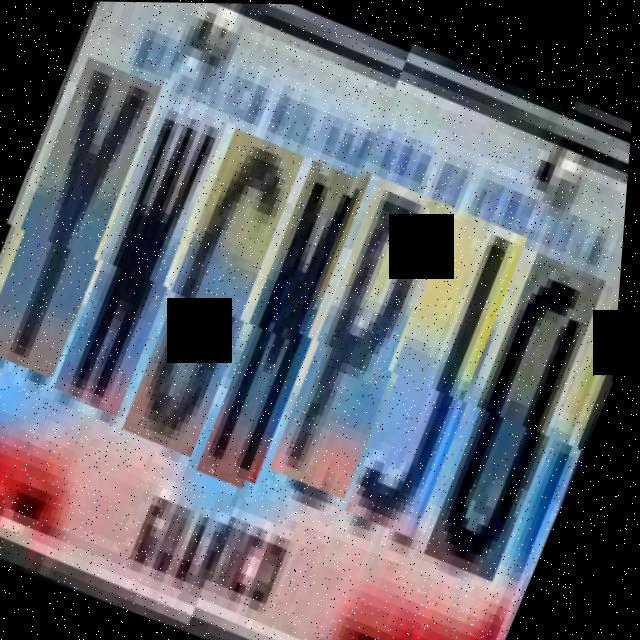0: (420, 257, 619, 584)
G: (120, 126, 318, 455)
J: (341, 215, 540, 542)
M: (195, 157, 383, 490)
P: (266, 183, 467, 504)
W: (50, 96, 240, 414)
Y: (0, 57, 174, 378)
